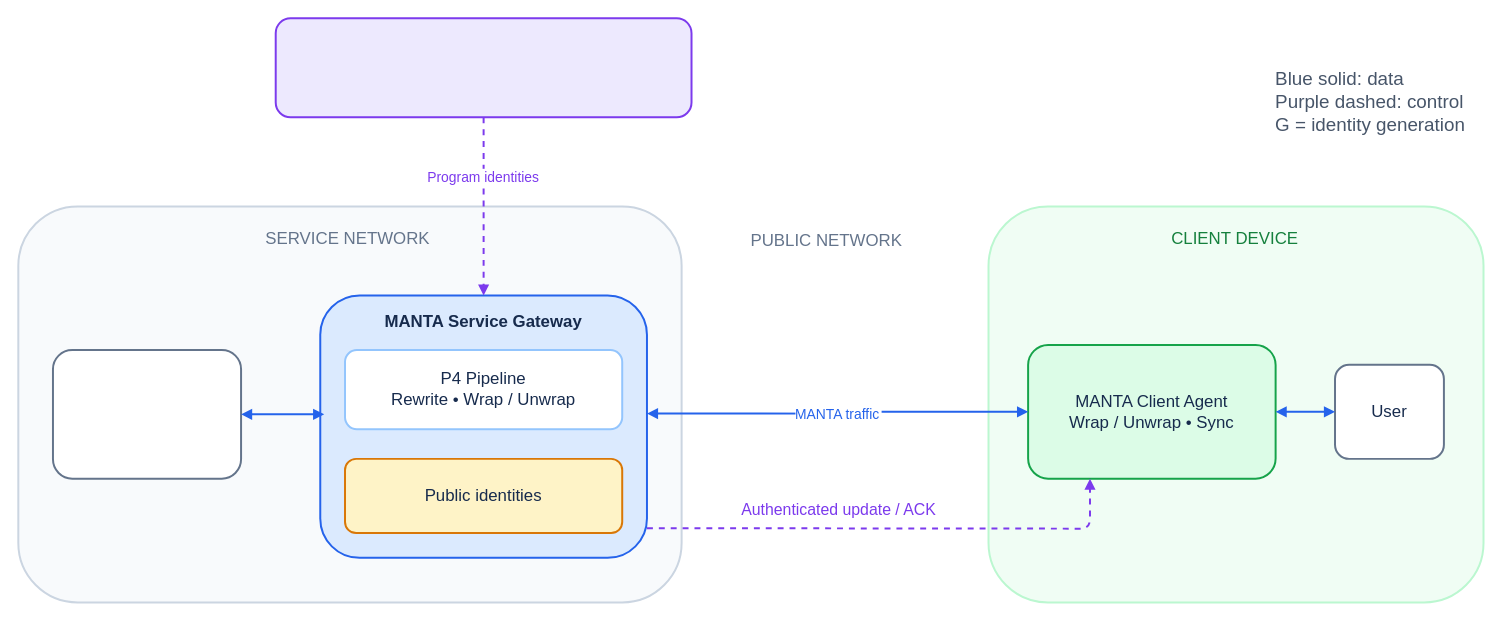
Image size: 1501x620. Some labels were removed from this diagram. Each missing label, with the box of its shape:
MANTA Controller Identity Rotation / IP Rotator: (274, 17, 692, 118)
Service Stable endpoint: (51, 348, 242, 479)
